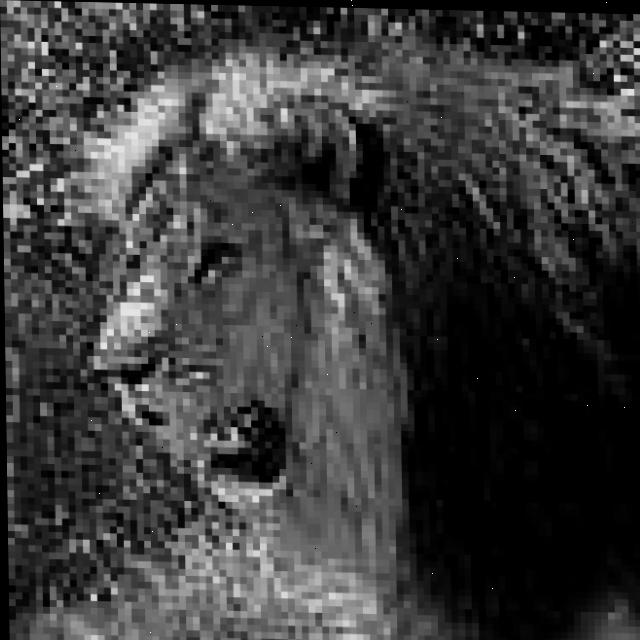Lion: (57, 50, 575, 560)
